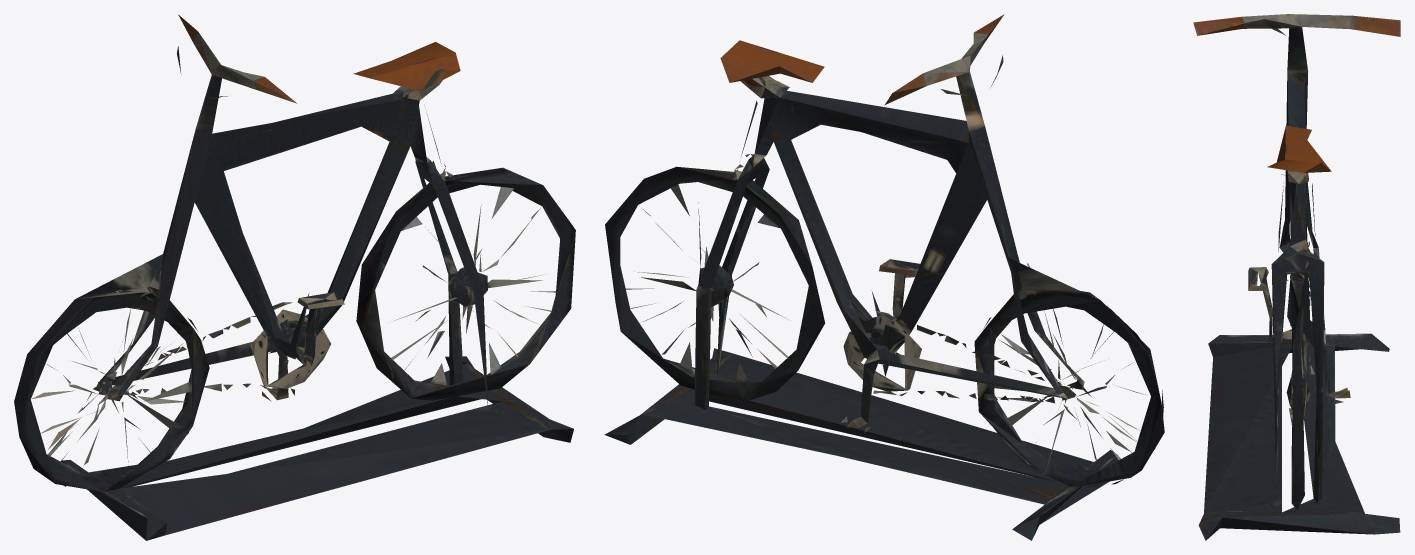
The model's file is mj-gym-cycle-machine.lod1.glb.
The picture shows the model from 3 angles, left to right: view 1: azimuth 30°, elevation 25°; view 2: azimuth 150°, elevation 25°; view 3: azimuth 270°, elevation 25°; orthographic projection. The views are drawn at different scales.
Visible parts, largest first — view 1: mj-gym-cycle-machine; view 2: mj-gym-cycle-machine; view 3: mj-gym-cycle-machine.
Boxes of the visible parts, left/top/right/bottom form: mj-gym-cycle-machine: left=14, top=14, right=575, bottom=540; mj-gym-cycle-machine: left=604, top=14, right=1164, bottom=540; mj-gym-cycle-machine: left=1193, top=14, right=1400, bottom=540.
Size of the model in its own units: 1.64 by 1.19 by 0.5709.
1 material, 1 textured.
